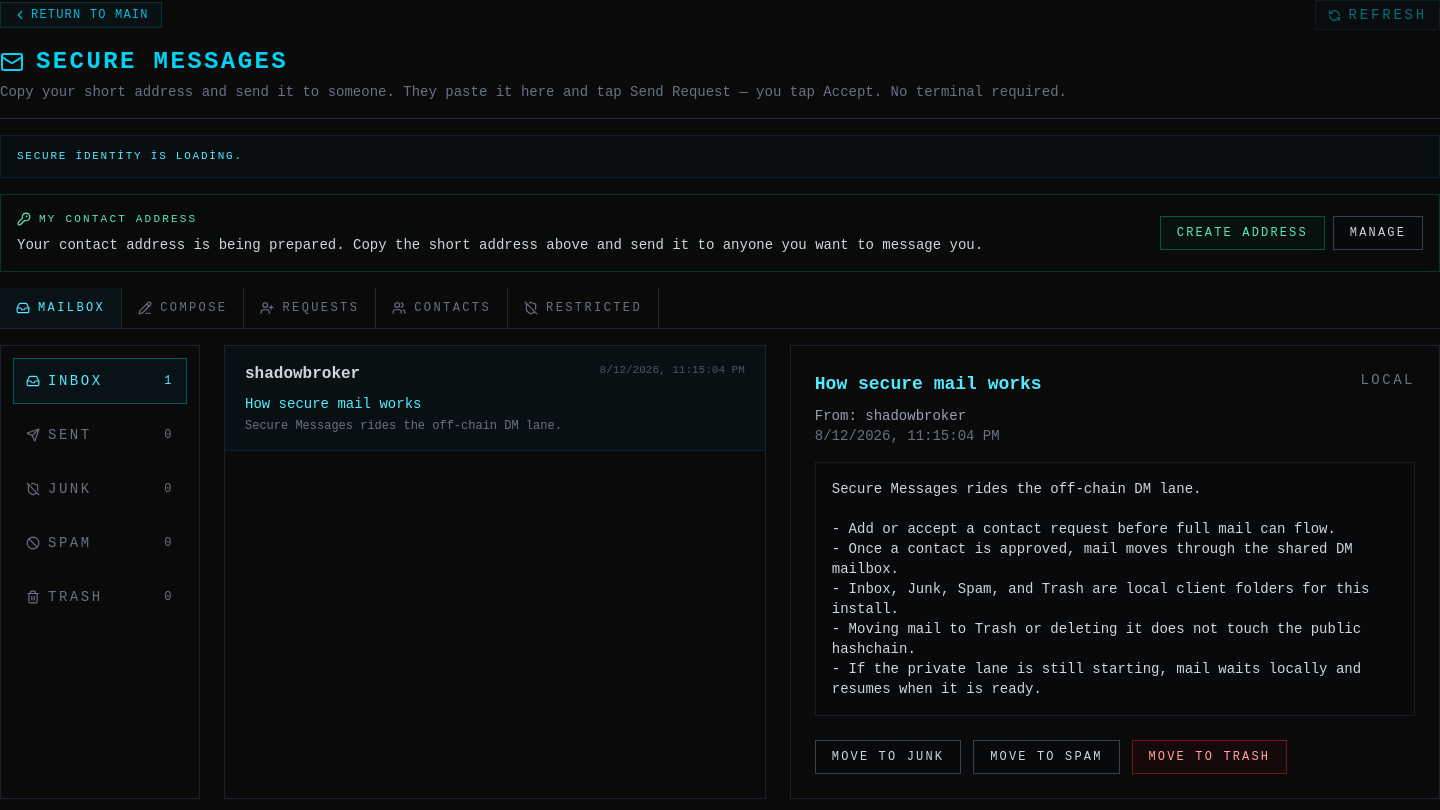
Test: MessagesView first-contact trust UX › blocks ambient legacy lookup for verified contacts that still lack an invite handle
Click the button "COMPOSE" at point(183, 308), box [122, 288, 244, 328]
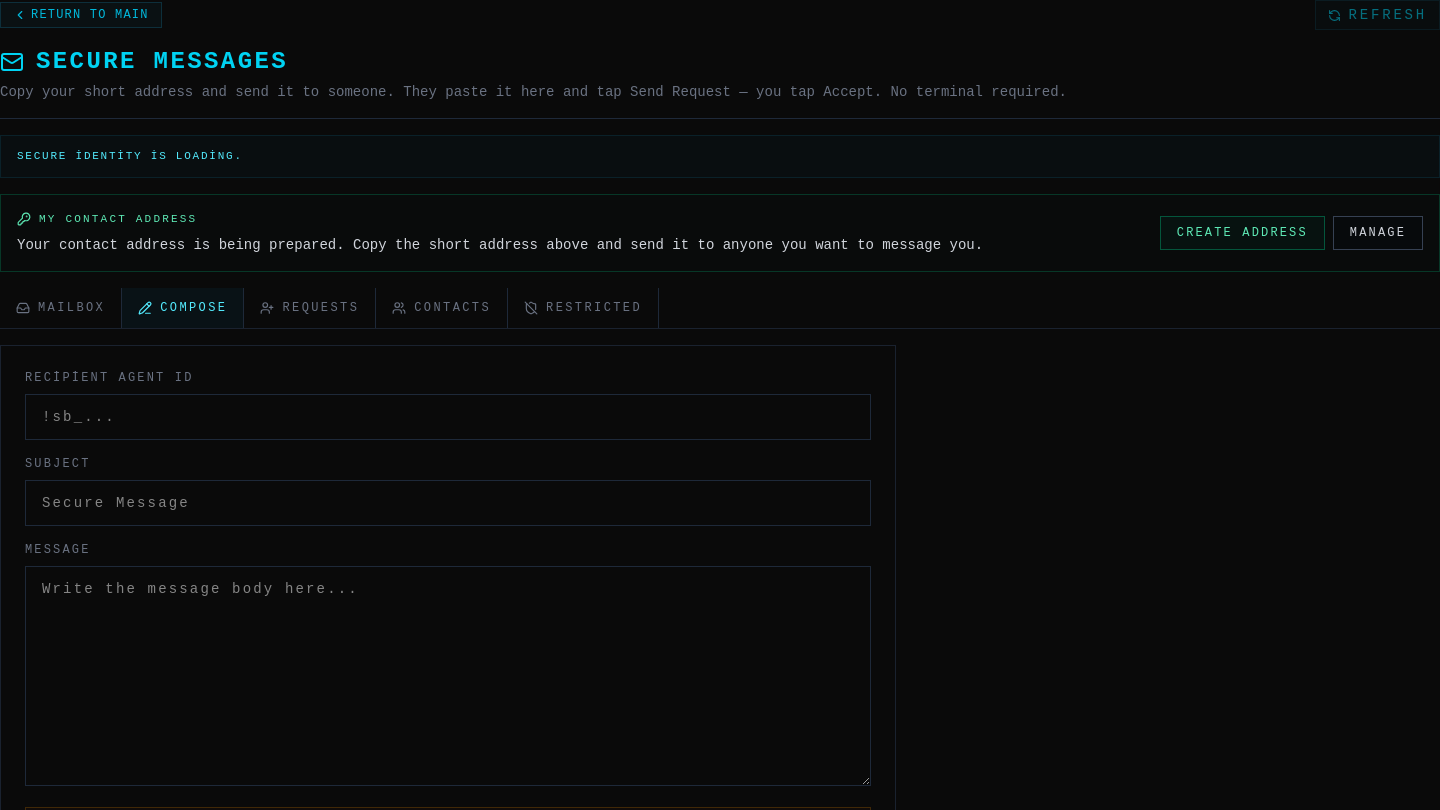
Type "!sb_legacy" into the field labelled "Recipient agent ID" at point(448, 417), box [25, 394, 871, 440]
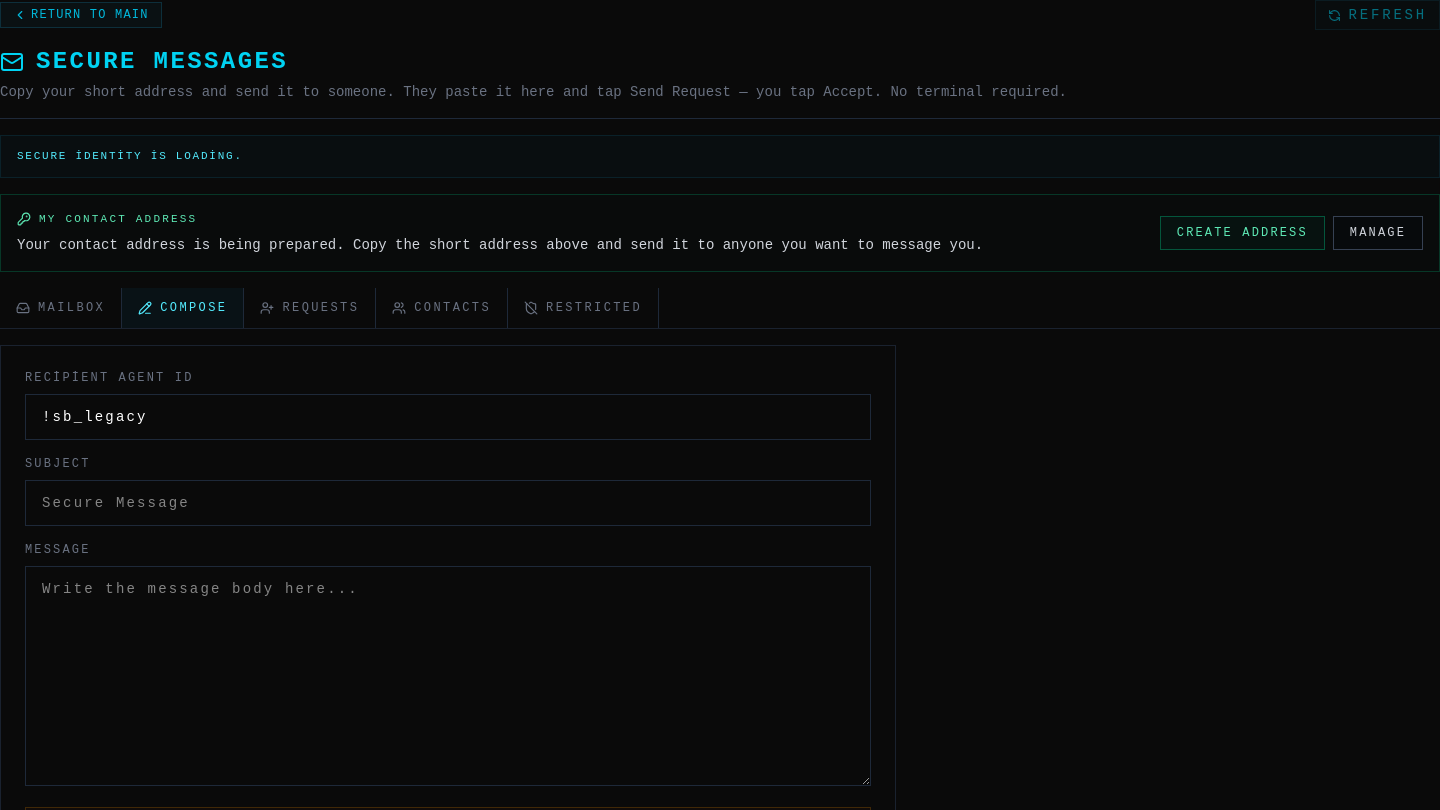
Type "hello from a legacy lookup contact" into the text box labelled "Message" at point(448, 676), box [25, 566, 871, 786]
(page scrolled)
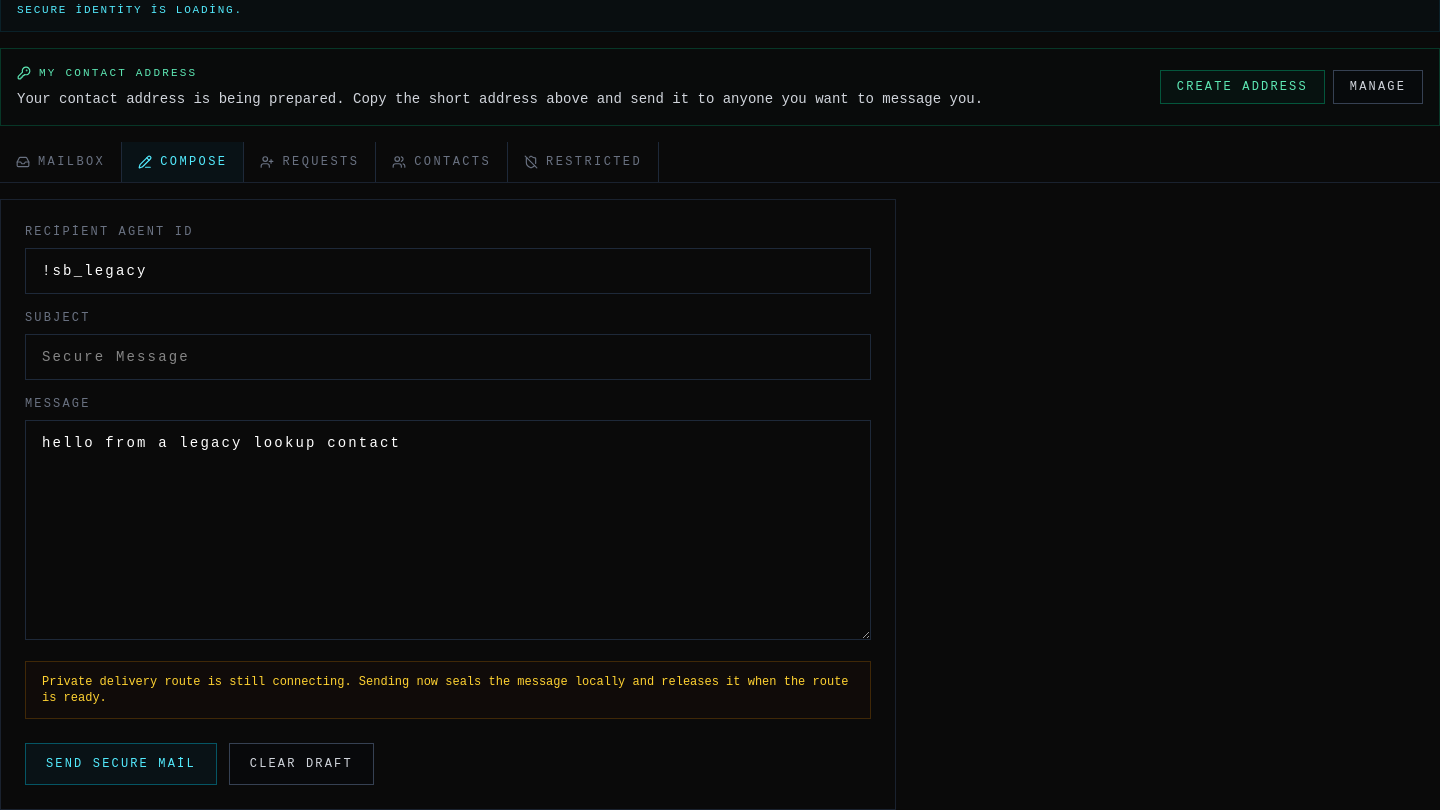
Click the button "Send Secure Mail" at point(121, 764), box [25, 743, 217, 785]
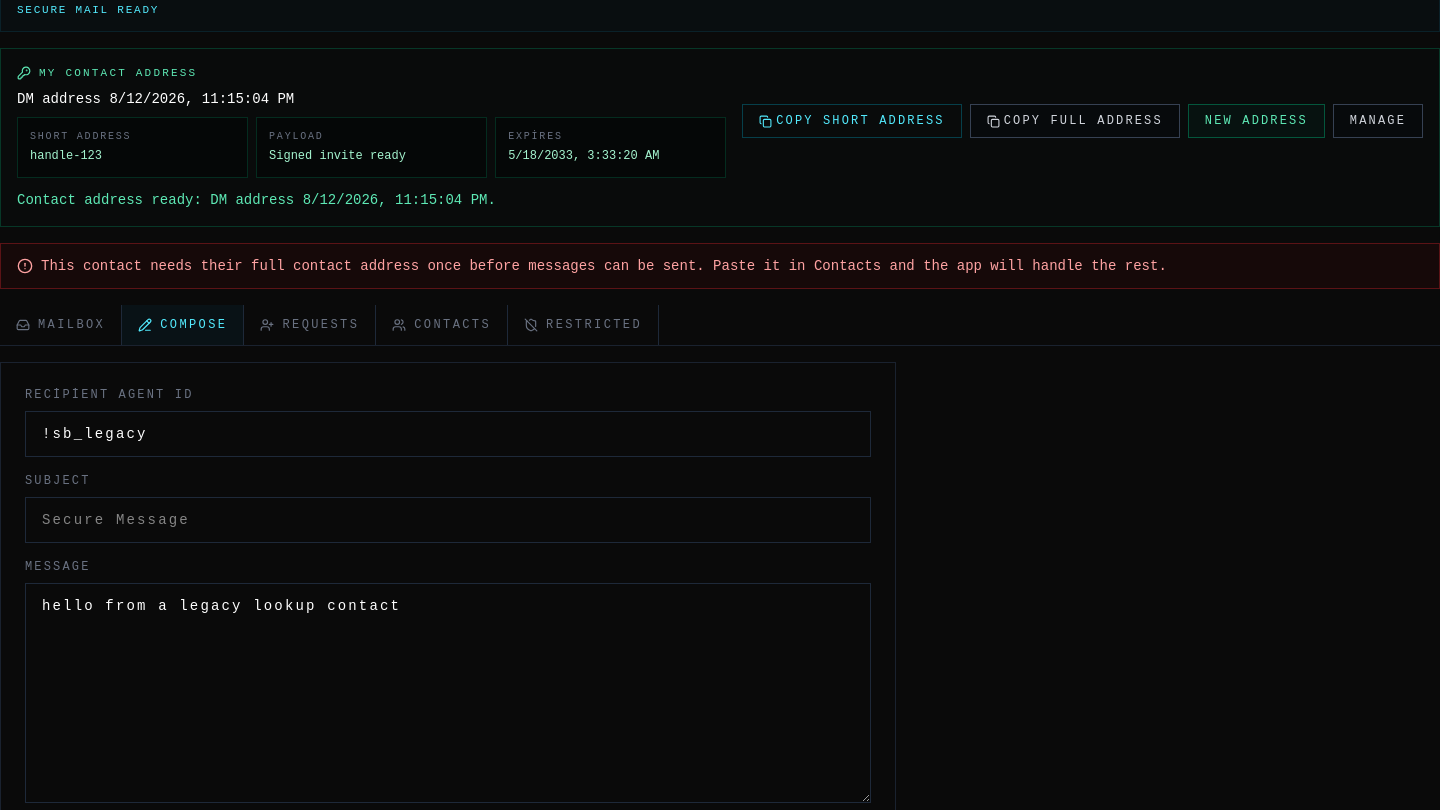
Now the text "This contact needs their full contact address once before messages can be sent" is shown, box [41, 258, 1167, 274]
